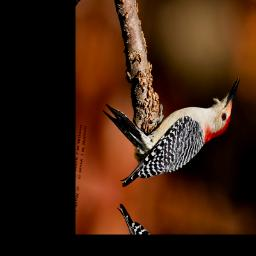Woodpecker: (92, 40, 240, 218)
